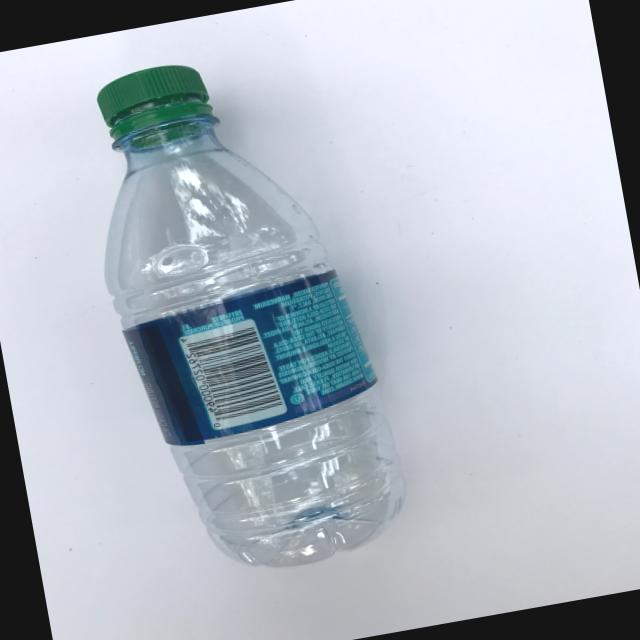Plastic: (14, 13, 446, 608)
